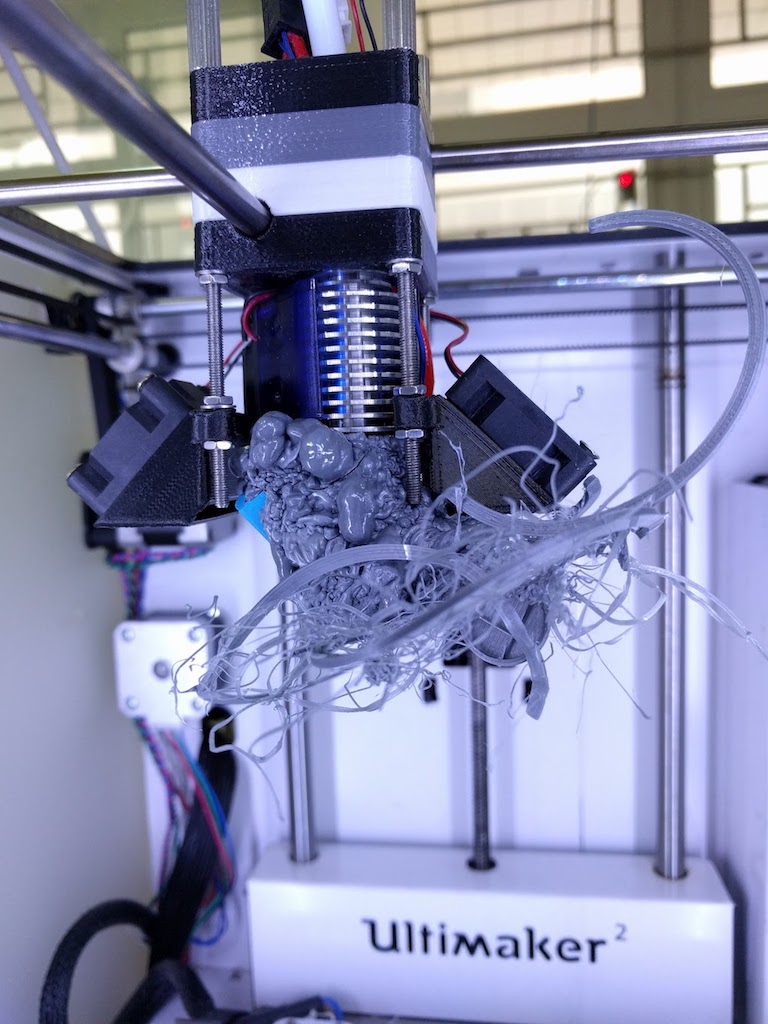Fail: (228, 401, 704, 767)
